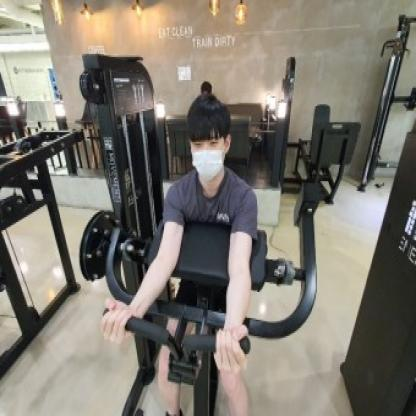arm curl machine: (80, 179, 318, 416)
